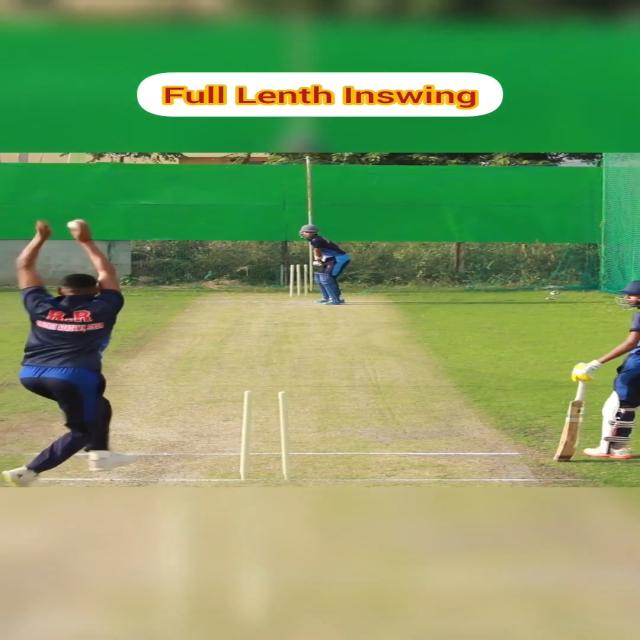stump: (238, 389, 294, 481), (289, 263, 309, 298)
